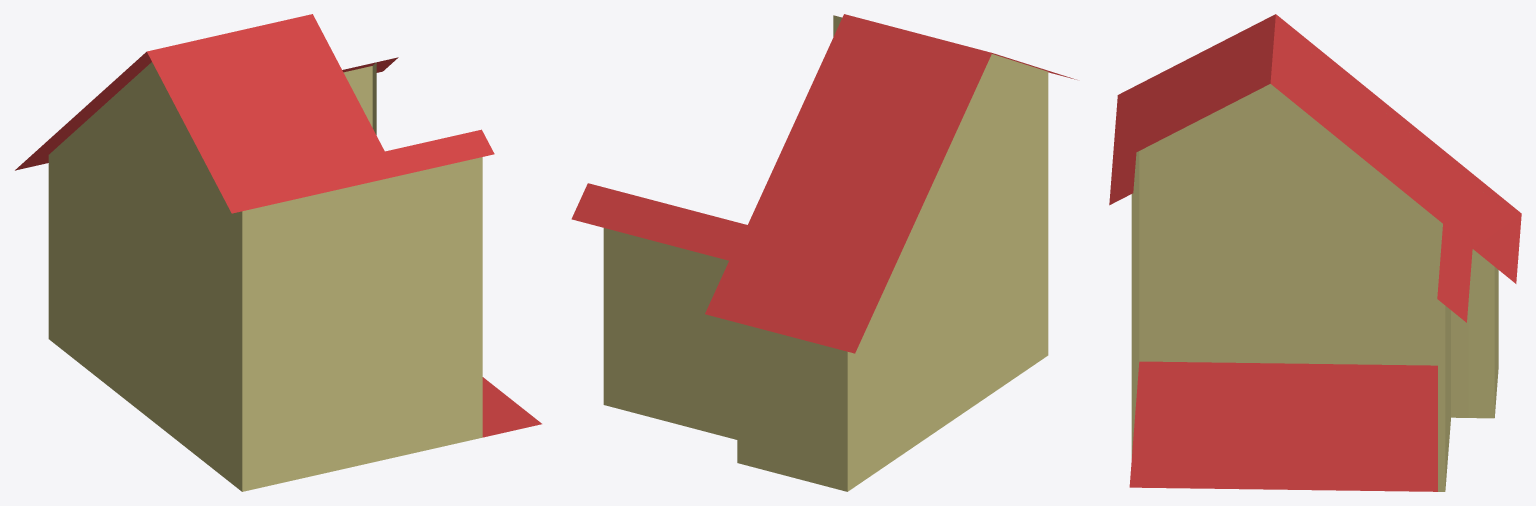
3 renders of one model, left to right at view 1: azimuth 30°, elevation 25°; view 2: azimuth 150°, elevation 25°; view 3: azimuth 270°, elevation 25°, orthographic. The views are drawn at different scales.
Bounding box in the file's own units: 11.96 × 13.91 × 12.65.
